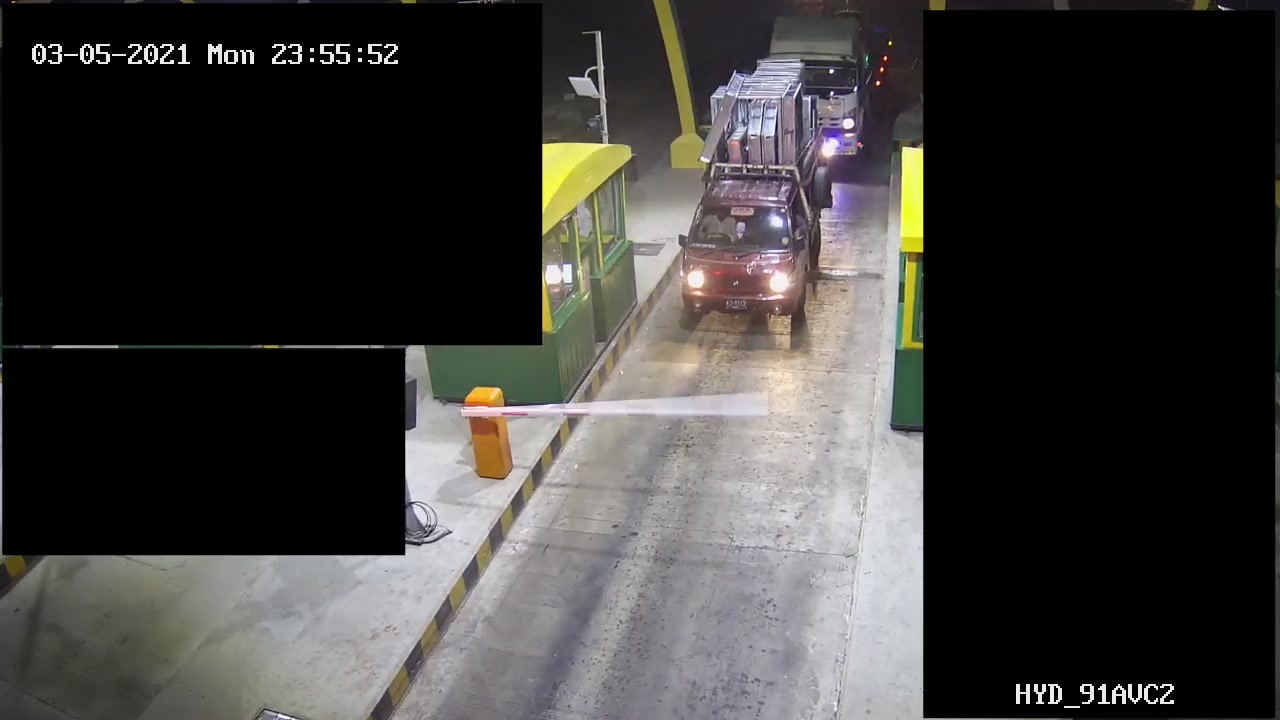F2: (671, 57, 828, 337)
